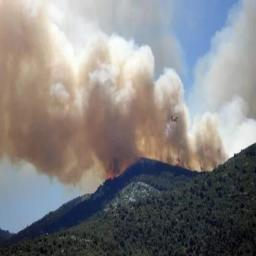Heavy smoke: (0, 6, 216, 183)
